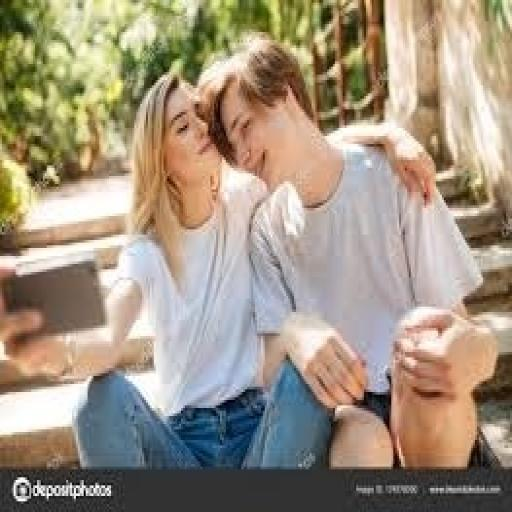sitting: (0, 30, 493, 470)
